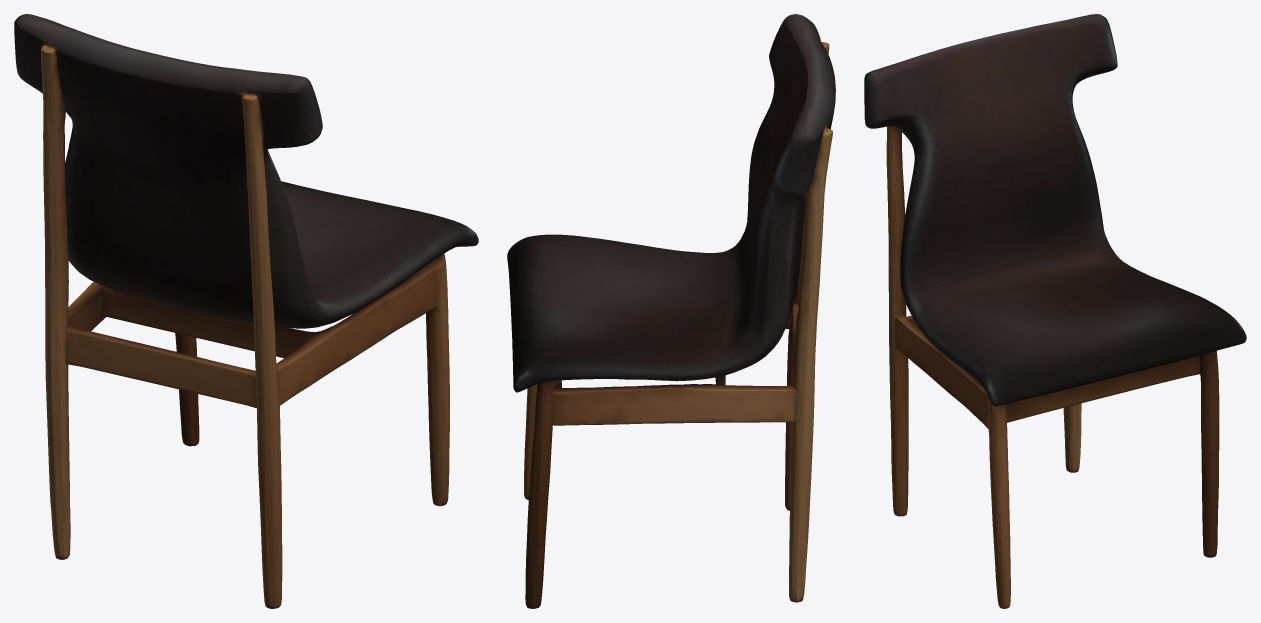
File: dark_brown_leather_chair_on_the_right_000.glb
3 renders of one model, left to right at view 1: azimuth 30°, elevation 25°; view 2: azimuth 150°, elevation 25°; view 3: azimuth 270°, elevation 25°, orthographic. The views are drawn at different scales.
Visible parts, largest first — view 1: phase2_final_dark_brown_leather_chair_on_the_right_000.obj; view 2: phase2_final_dark_brown_leather_chair_on_the_right_000.obj; view 3: phase2_final_dark_brown_leather_chair_on_the_right_000.obj.
Part boxes in pixels (box(x1,y1,x2,y2)): phase2_final_dark_brown_leather_chair_on_the_right_000.obj: box(14, 14, 478, 608); phase2_final_dark_brown_leather_chair_on_the_right_000.obj: box(507, 14, 835, 608); phase2_final_dark_brown_leather_chair_on_the_right_000.obj: box(864, 14, 1246, 608).
Bounding box in the file's own units: 0.5798 × 0.7397 × 0.5736.
Materials: 1 (1 with a texture image).
